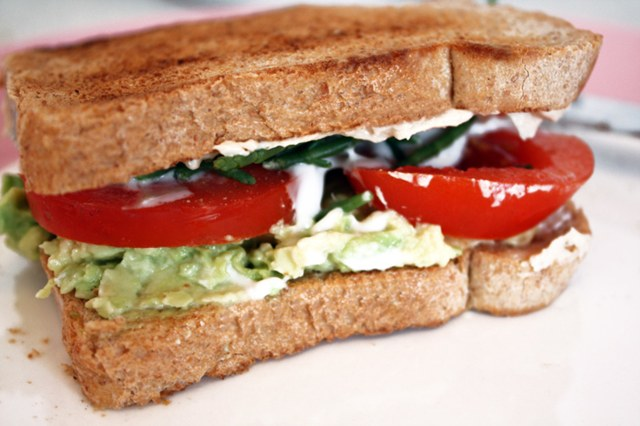tomato: (348, 125, 595, 240), (18, 163, 301, 248)
